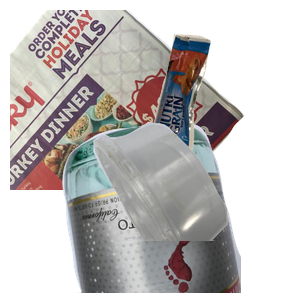glass: (60, 120, 300, 300)
paper: (10, 10, 247, 190)
plastic: (91, 120, 300, 300)
trash: (149, 31, 300, 179)
